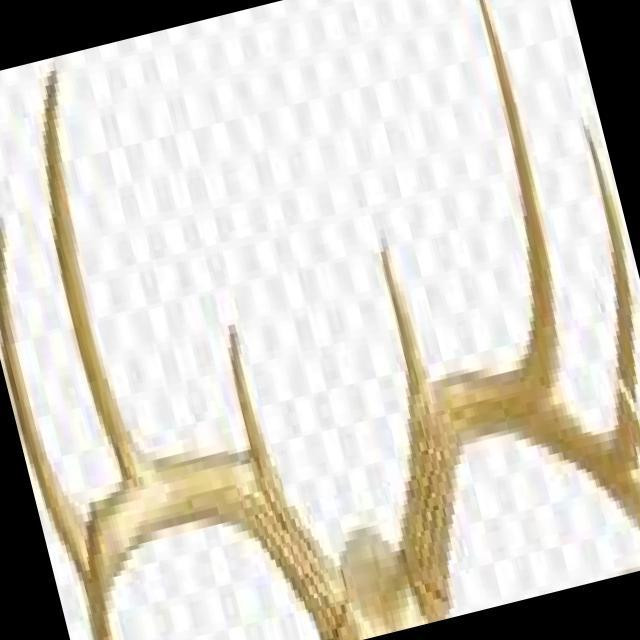L-F: (397, 365, 640, 623)
L-G1: (377, 224, 431, 394)
L-G2: (477, 0, 562, 401)
R-F: (85, 449, 344, 640)
R-G1: (226, 320, 272, 458)
R-G2: (41, 60, 150, 480)
R-G3: (0, 210, 90, 584)
